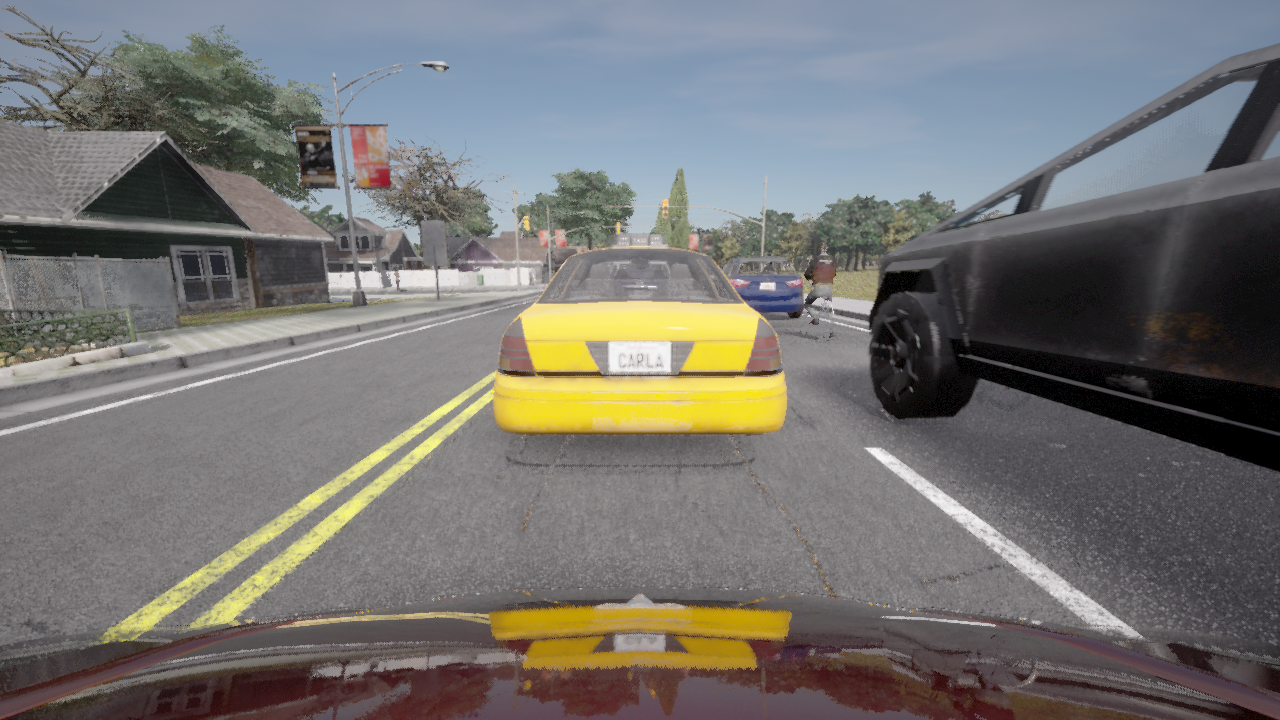cyclist: (867, 43, 1279, 471), (0, 588, 1279, 719), (494, 234, 785, 434), (721, 257, 802, 318), (798, 280, 834, 342)
pedestrian: (392, 269, 400, 292)
